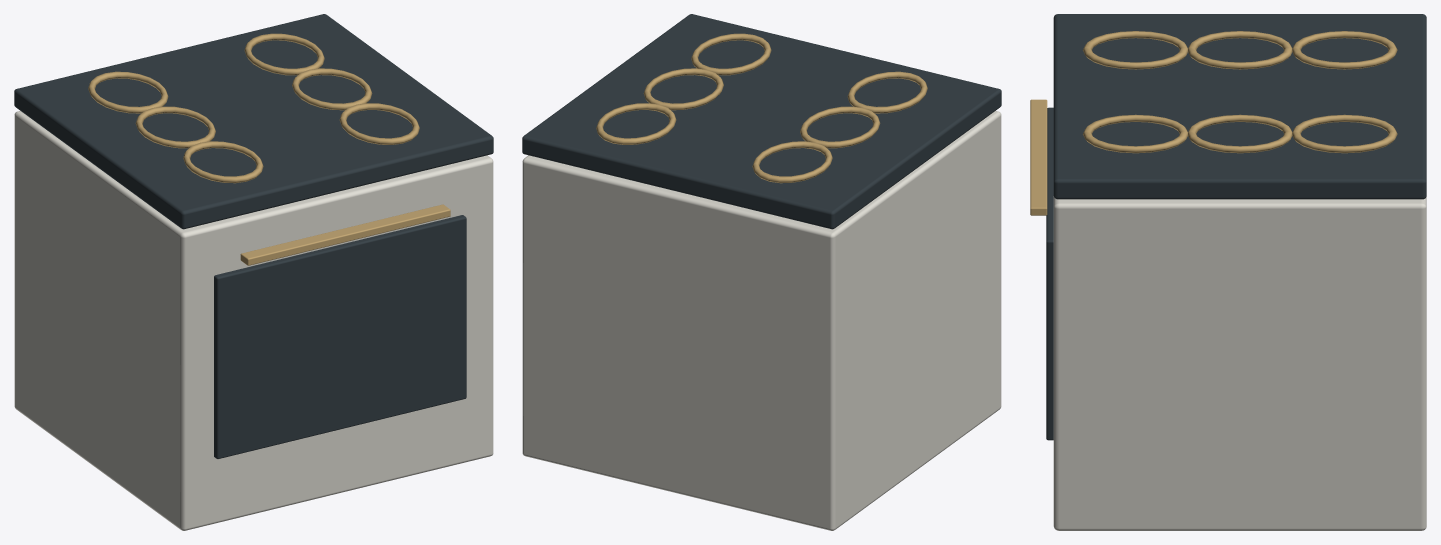
Rendered from stove-8-3.glb.
3 renders of one model, left to right at view 1: azimuth 30°, elevation 25°; view 2: azimuth 150°, elevation 25°; view 3: azimuth 270°, elevation 25°, orthographic. The views are drawn at different scales.
Visible parts, largest first — view 1: upholstery (×2), part; view 2: upholstery (×2), part; view 3: upholstery (×2), part.
Boxes of the visible parts, box(x1,y1,x2,y2) form: upholstery (×2): box(14, 14, 493, 530); part: box(88, 33, 450, 265); upholstery (×2): box(522, 14, 1001, 530); part: box(596, 33, 927, 183); upholstery (×2): box(1046, 14, 1426, 530); part: box(1030, 31, 1397, 215).
Size of the model in its own units: 1 by 1 by 1.
